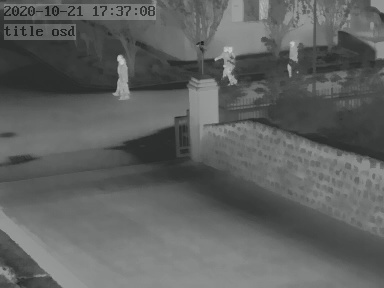person: (109, 55, 131, 100), (216, 41, 237, 83), (288, 40, 299, 72)
